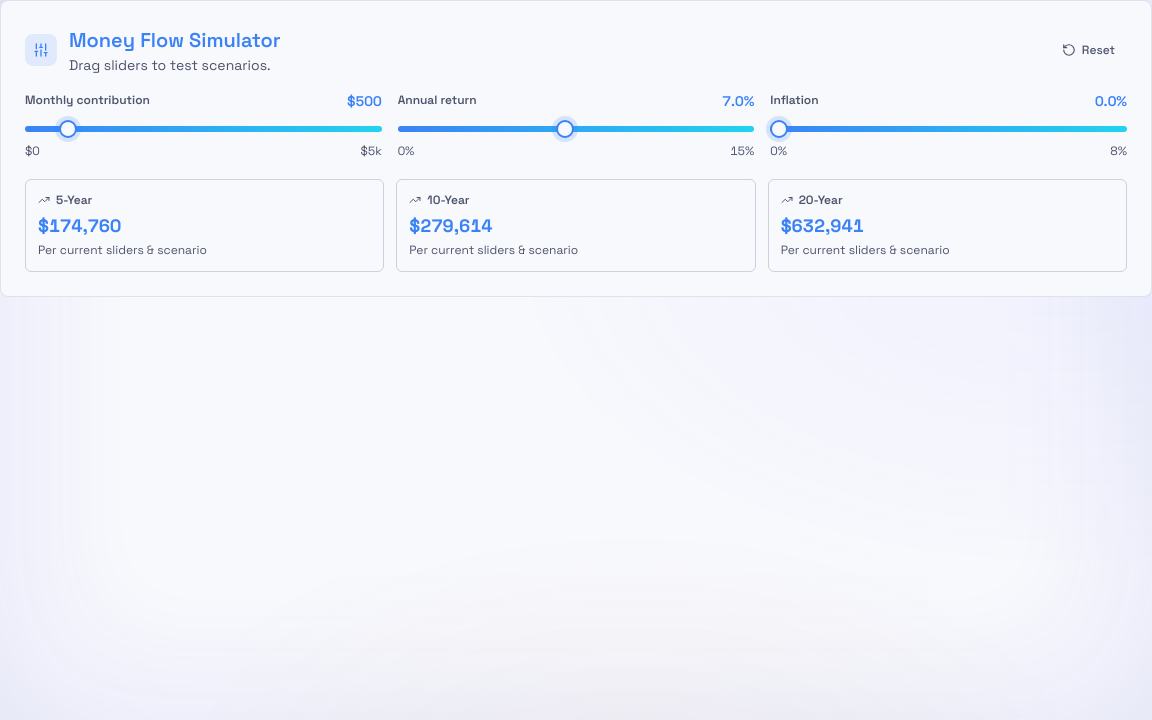
Test: MoneyFlowSimulator › reset button restores baseline values
Set the slider with test id "simulator-slider-pmt" to "2500": (203, 129) [25,126,382,132]
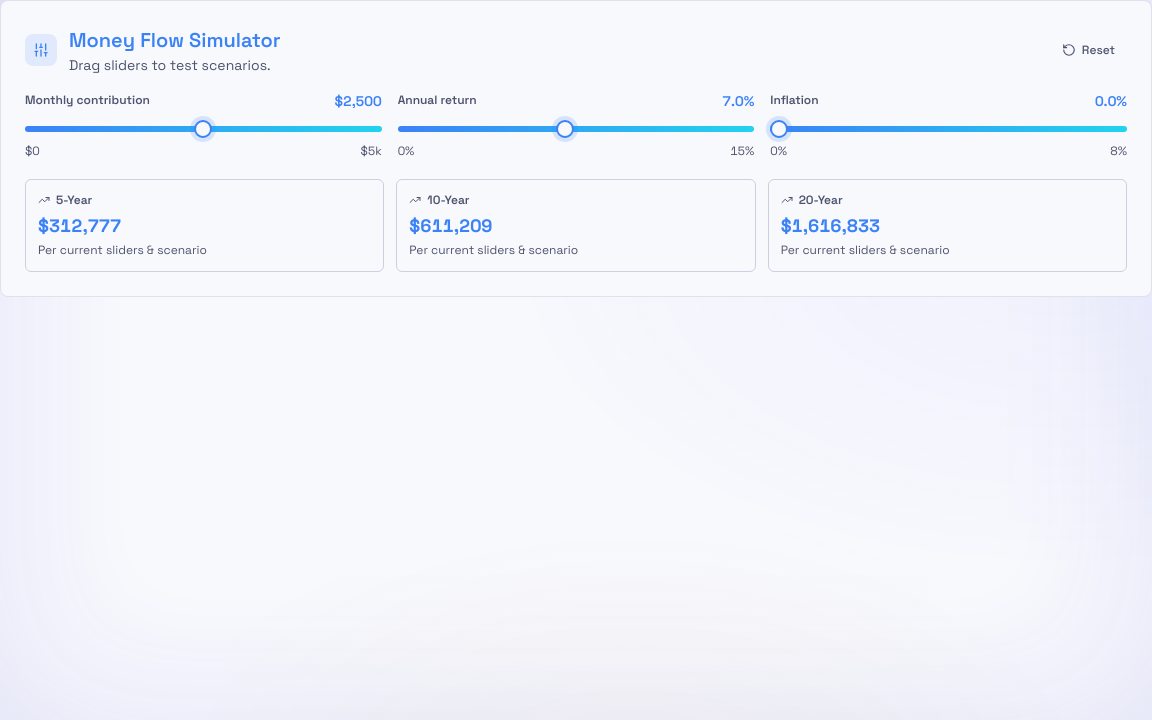
Click the button with test id "simulator-reset": (1088, 50) [1050,36,1127,64]
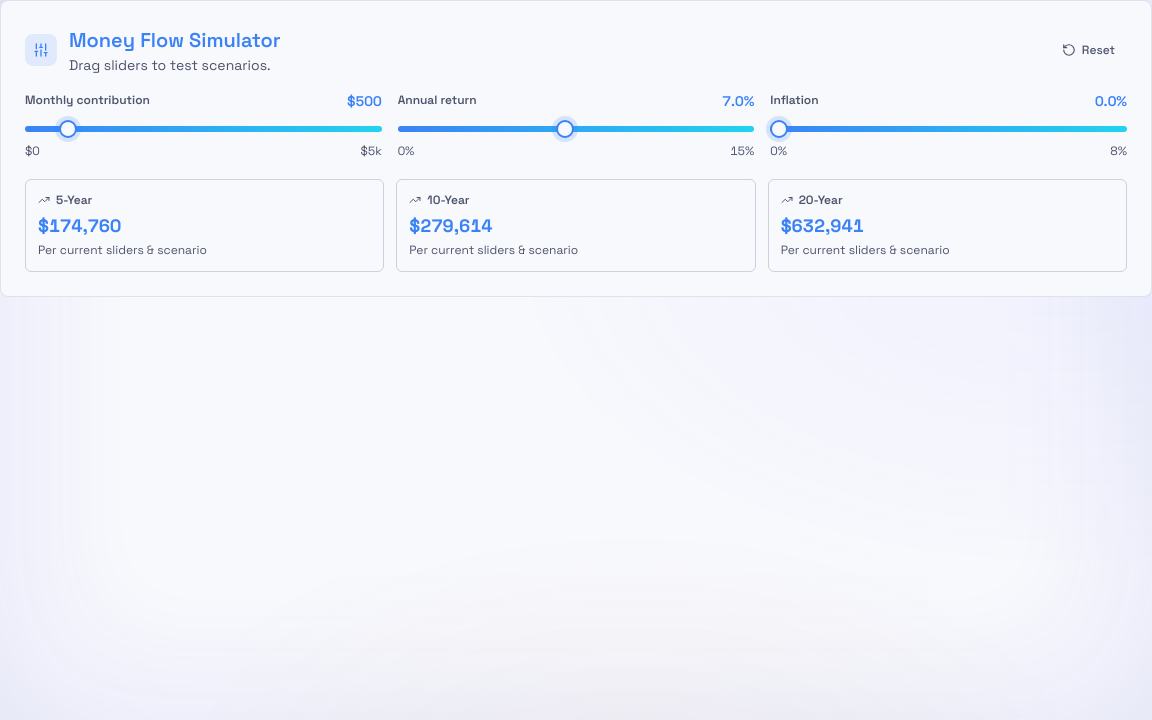
Check: the slider with test id "simulator-slider-pmt" holds "500", box [25,126,382,132]
